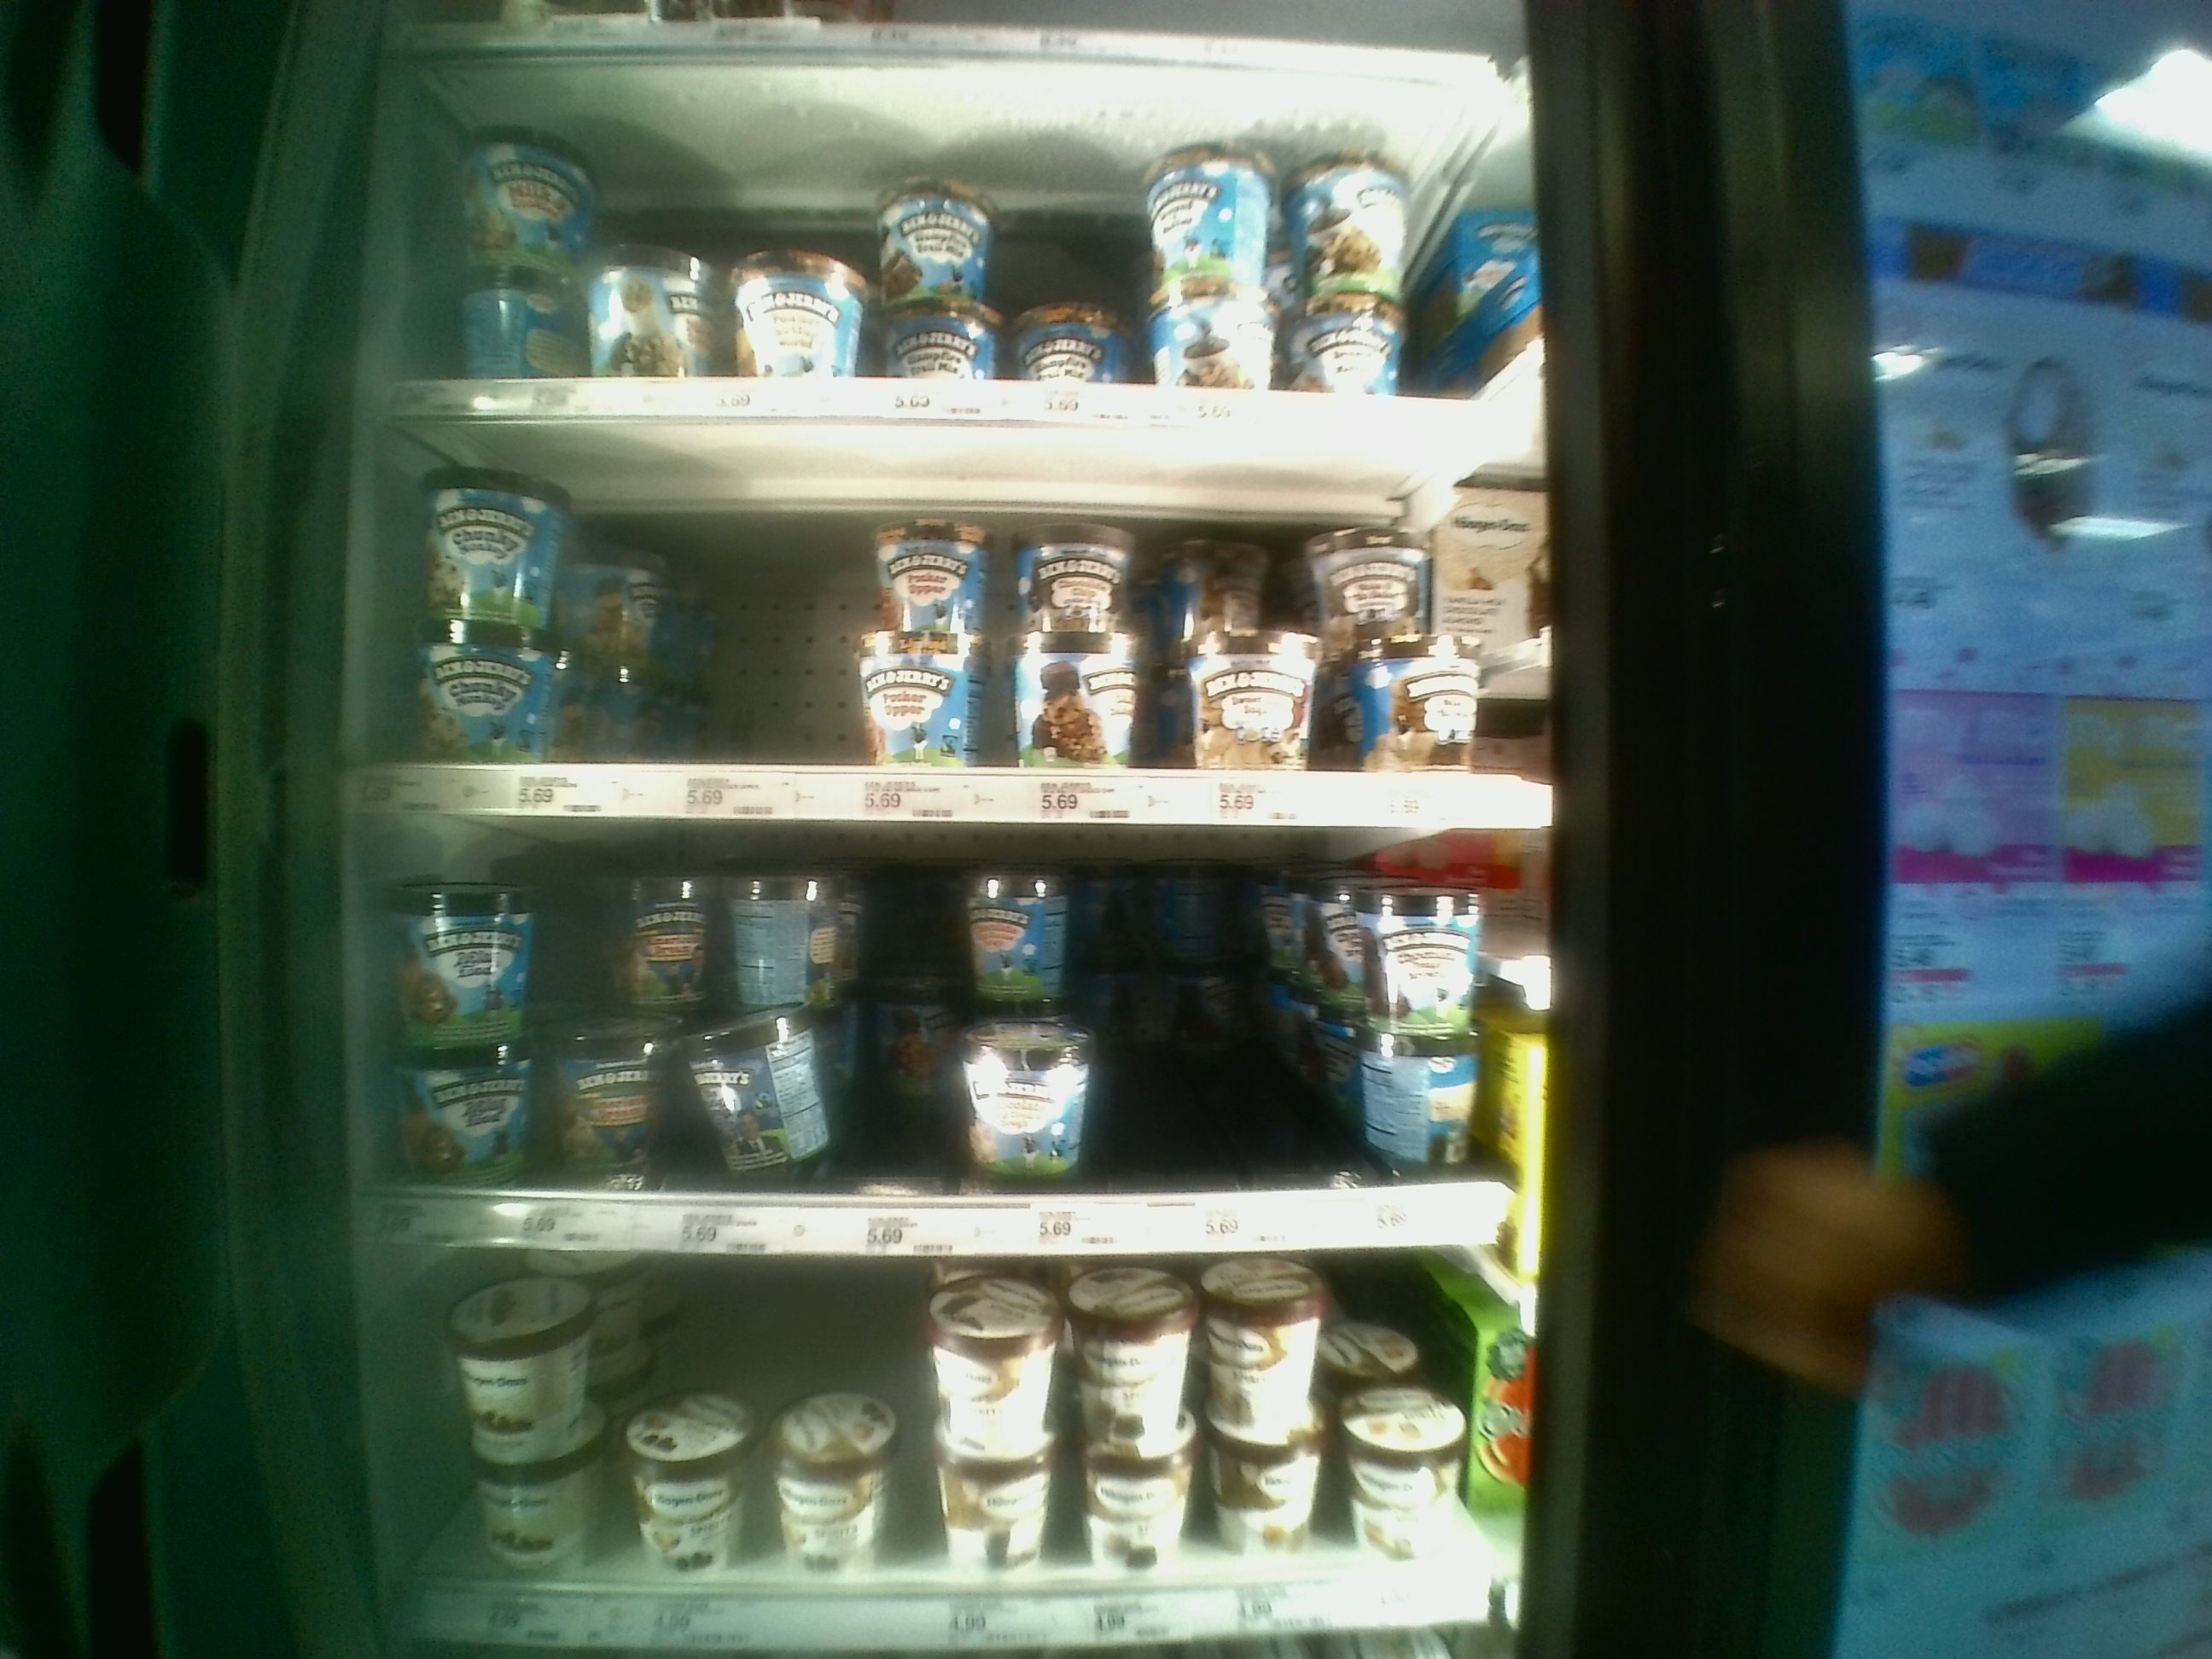shelf: (366, 831, 1494, 1255), (408, 61, 1522, 465), (411, 439, 1533, 836)
